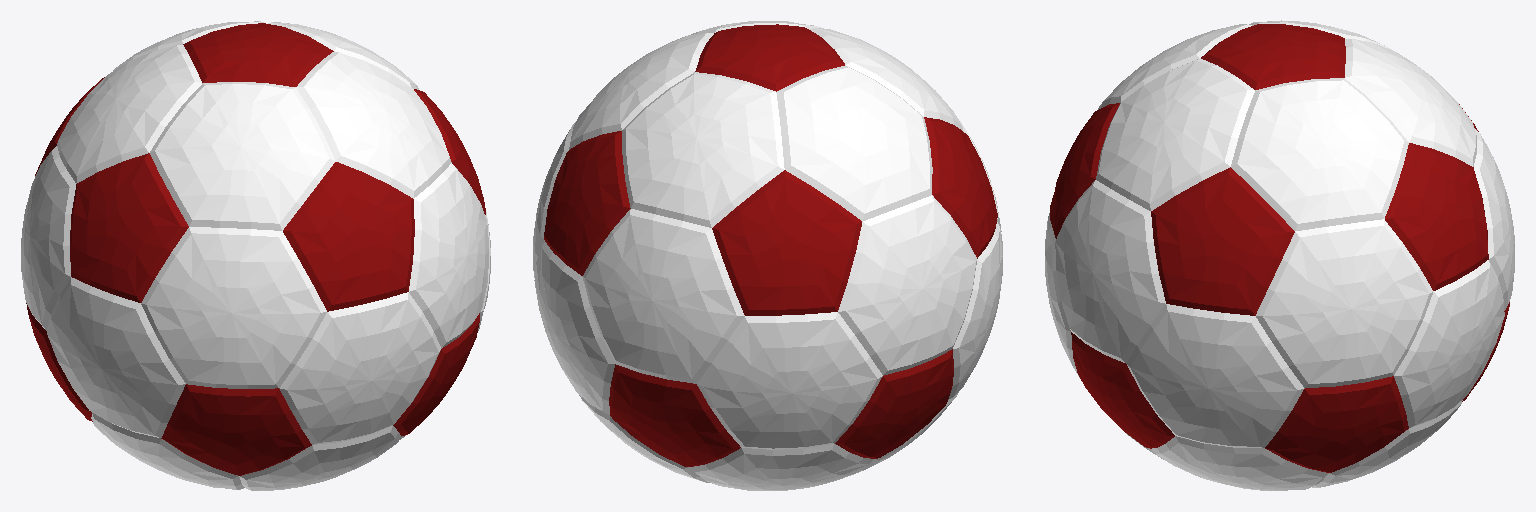
File: soccerball.obj
The picture shows the model from 3 angles: view 1: azimuth 30°, elevation 25°; view 2: azimuth 150°, elevation 25°; view 3: azimuth 270°, elevation 25°; orthographic projection.
Parts seen in each view (by area): view 1: white, black; view 2: white, black; view 3: white, black.
Part boxes in pixels (x1,y1,x2,y2): white: (21,21,490,490); black: (26,23,485,475); white: (533,21,1002,490); black: (544,24,997,466); white: (1045,20,1514,490); black: (1050,24,1509,472).
Size of the model in its own units: 9.36 by 9.39 by 9.39.